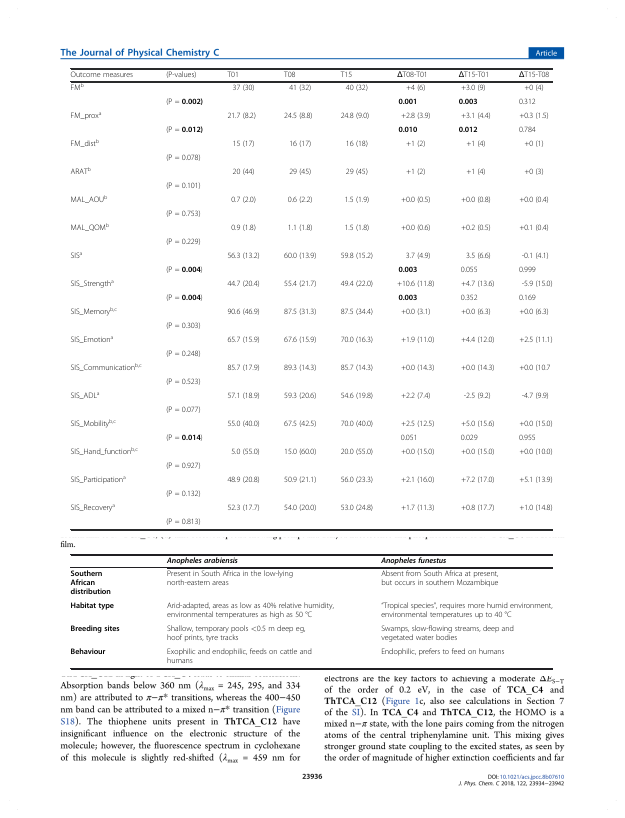borderless: (69, 66, 552, 529), (69, 553, 552, 668)
cell: (380, 602, 553, 621), (166, 602, 335, 621), (166, 648, 313, 667), (166, 625, 306, 644), (380, 625, 515, 644), (166, 570, 294, 589), (380, 570, 499, 589), (380, 648, 505, 658), (69, 570, 112, 598), (70, 362, 143, 373), (70, 446, 139, 457), (166, 557, 239, 566), (70, 474, 127, 485), (380, 557, 447, 566), (70, 71, 134, 80), (70, 306, 118, 317), (69, 625, 121, 635), (70, 418, 117, 429), (70, 502, 116, 513), (70, 278, 115, 289), (70, 334, 114, 345), (69, 602, 115, 612), (70, 222, 110, 233), (70, 194, 108, 205), (69, 648, 106, 658), (70, 110, 102, 121), (165, 98, 204, 107), (165, 126, 204, 135), (165, 266, 204, 275), (396, 280, 435, 289), (165, 294, 204, 303), (165, 434, 204, 443), (70, 138, 100, 149), (70, 390, 100, 401), (165, 154, 201, 163), (165, 182, 201, 191), (165, 210, 201, 219), (165, 238, 201, 247), (165, 322, 201, 331), (165, 350, 201, 359), (165, 378, 201, 387), (165, 406, 201, 415), (165, 462, 201, 471), (165, 490, 201, 499), (165, 518, 201, 527), (226, 252, 261, 261), (226, 280, 261, 289), (460, 280, 495, 289), (226, 308, 261, 317), (226, 336, 261, 345), (400, 336, 435, 345), (460, 336, 495, 345), (518, 336, 553, 345), (226, 364, 261, 373), (400, 364, 435, 373), (460, 364, 495, 373), (226, 392, 261, 401), (226, 420, 261, 429), (400, 420, 435, 429), (460, 420, 495, 429), (518, 420, 553, 429), (400, 448, 435, 457), (460, 448, 495, 457), (518, 448, 553, 457), (226, 476, 261, 485), (400, 476, 435, 485), (460, 476, 495, 485), (518, 476, 553, 485), (226, 504, 261, 513), (400, 504, 435, 513), (460, 504, 495, 513), (518, 504, 553, 513), (283, 252, 317, 261), (340, 252, 374, 261), (283, 280, 317, 289), (340, 280, 374, 289), (283, 308, 317, 317), (340, 308, 374, 317), (283, 336, 317, 345), (340, 336, 374, 345), (283, 364, 317, 373), (340, 364, 374, 373), (283, 392, 317, 401), (340, 392, 374, 401), (283, 420, 317, 429), (340, 420, 374, 429), (283, 448, 317, 457), (340, 448, 374, 457), (283, 476, 317, 485), (340, 476, 374, 485), (283, 504, 317, 513), (340, 504, 374, 513), (396, 71, 429, 80), (518, 364, 551, 373), (165, 71, 197, 80), (458, 71, 490, 80), (518, 71, 550, 80), (460, 112, 492, 121), (518, 112, 550, 121), (460, 196, 492, 205), (518, 196, 550, 205), (460, 224, 492, 233), (518, 224, 550, 233), (521, 280, 553, 289), (460, 308, 492, 317), (518, 308, 550, 317), (226, 112, 257, 121), (400, 112, 431, 121), (400, 196, 431, 205), (400, 224, 431, 233), (400, 308, 431, 317), (400, 392, 431, 401), (230, 448, 261, 457), (283, 112, 313, 121), (340, 112, 370, 121), (521, 252, 550, 261), (463, 392, 492, 401), (521, 392, 550, 401), (230, 196, 257, 205), (343, 196, 370, 205), (230, 224, 257, 233), (343, 224, 370, 233), (465, 252, 492, 261), (70, 166, 92, 177), (460, 84, 486, 93), (287, 196, 313, 205), (287, 224, 313, 233), (405, 252, 431, 261), (288, 84, 312, 93), (345, 84, 369, 93), (288, 140, 312, 149), (345, 140, 369, 149), (288, 168, 312, 177), (345, 168, 369, 177), (232, 84, 255, 93), (232, 140, 255, 149), (232, 168, 255, 177), (405, 84, 426, 93), (523, 84, 544, 93), (405, 140, 426, 149), (465, 140, 486, 149), (523, 140, 544, 149), (405, 168, 426, 177), (465, 168, 486, 177), (523, 168, 544, 177), (397, 98, 418, 106), (397, 126, 418, 134), (397, 266, 418, 274), (397, 294, 418, 302), (70, 82, 85, 93), (518, 98, 536, 107), (518, 126, 536, 135), (460, 266, 478, 275), (518, 266, 536, 275), (460, 294, 478, 303), (518, 294, 536, 303), (400, 434, 418, 443), (460, 434, 478, 443), (518, 434, 536, 443), (458, 98, 478, 106), (458, 126, 478, 134), (70, 250, 83, 261), (226, 71, 240, 80), (283, 71, 296, 80), (340, 71, 353, 80)
